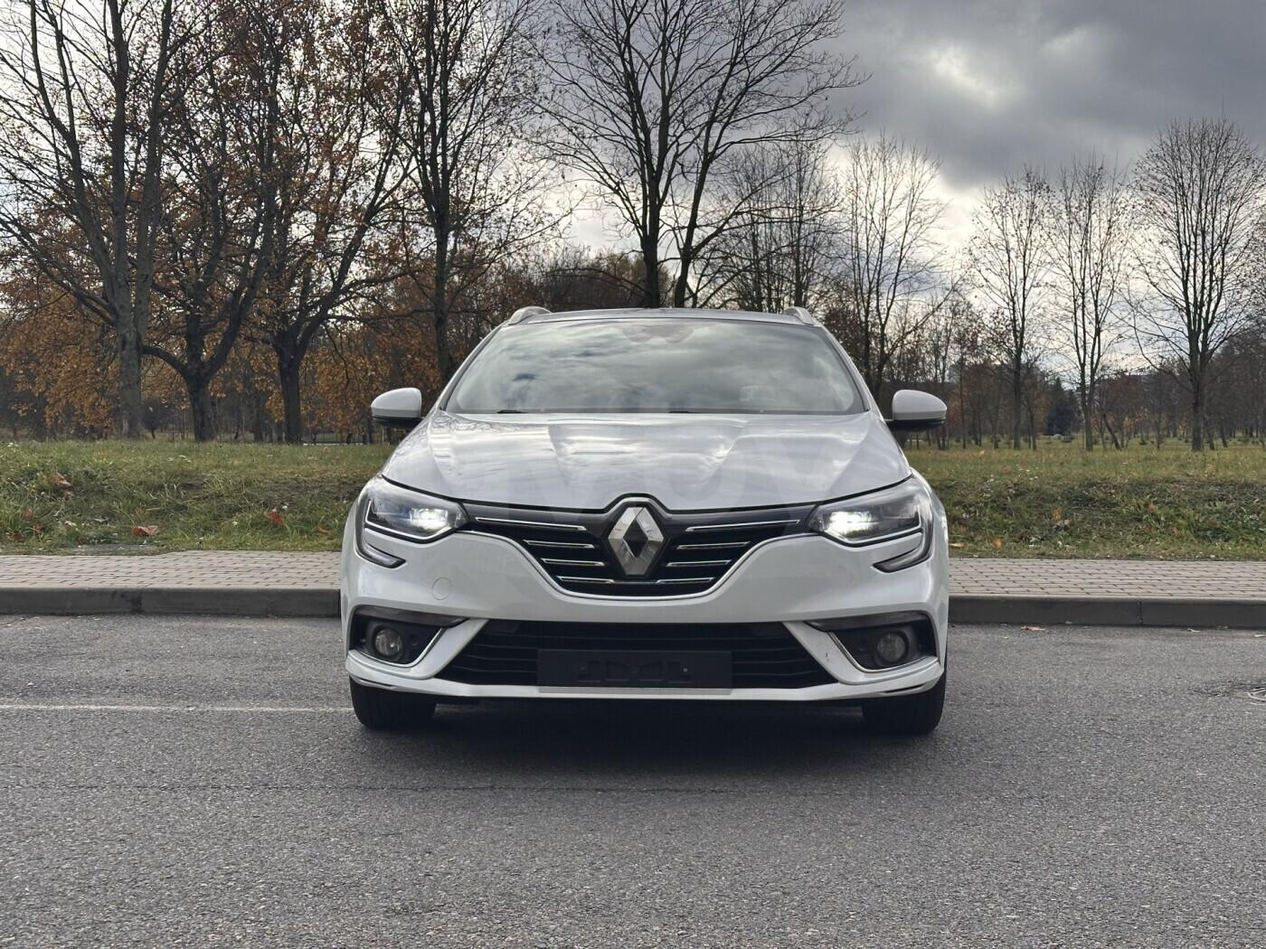Megane_2016-2020: (327, 305, 979, 757)
